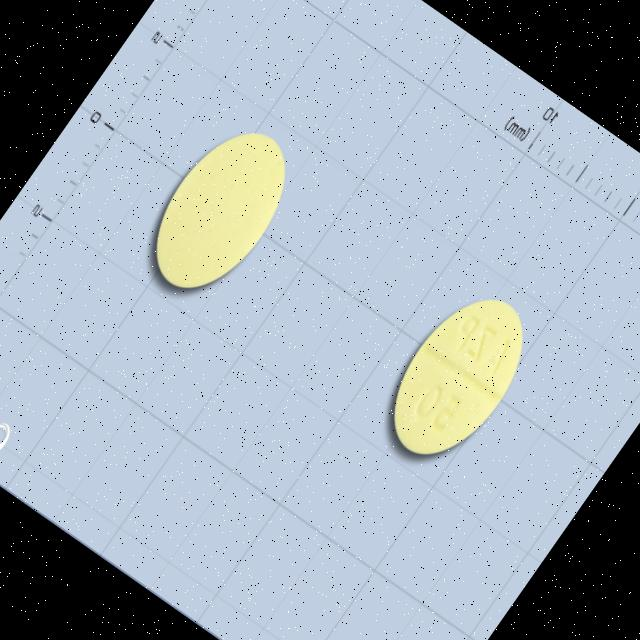Teva Azathioprine Tab: (128, 108, 311, 311), (367, 278, 548, 478)
